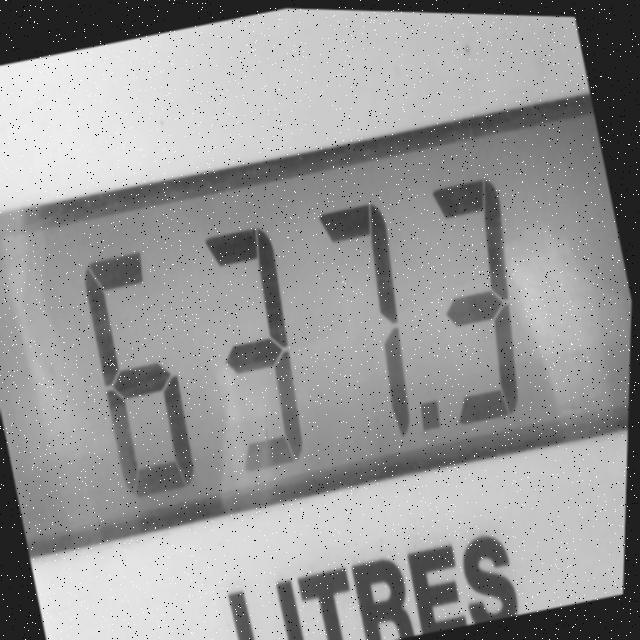.: (409, 382, 456, 447)
3: (416, 163, 547, 429), (200, 224, 322, 473)
6: (71, 245, 207, 496)
7: (317, 201, 431, 441)
